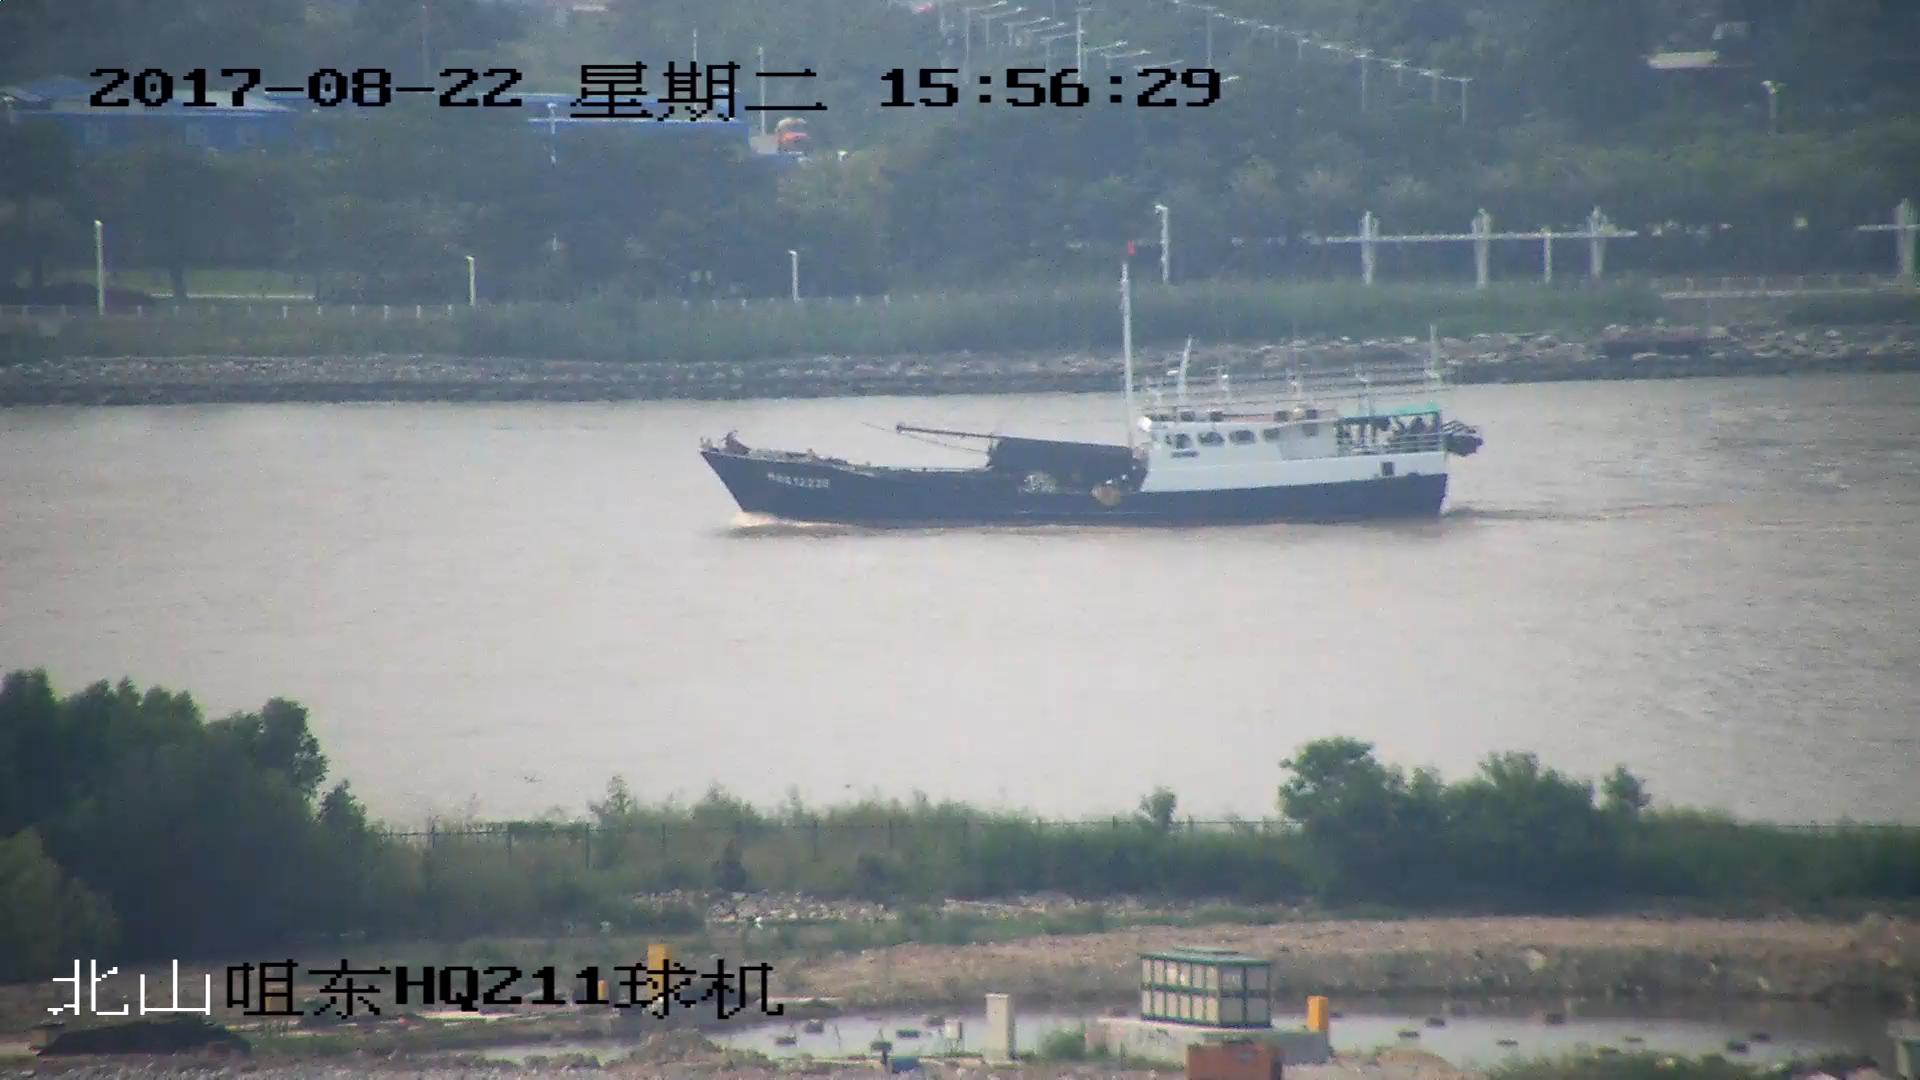fishing boat: (702, 260, 1478, 527)
